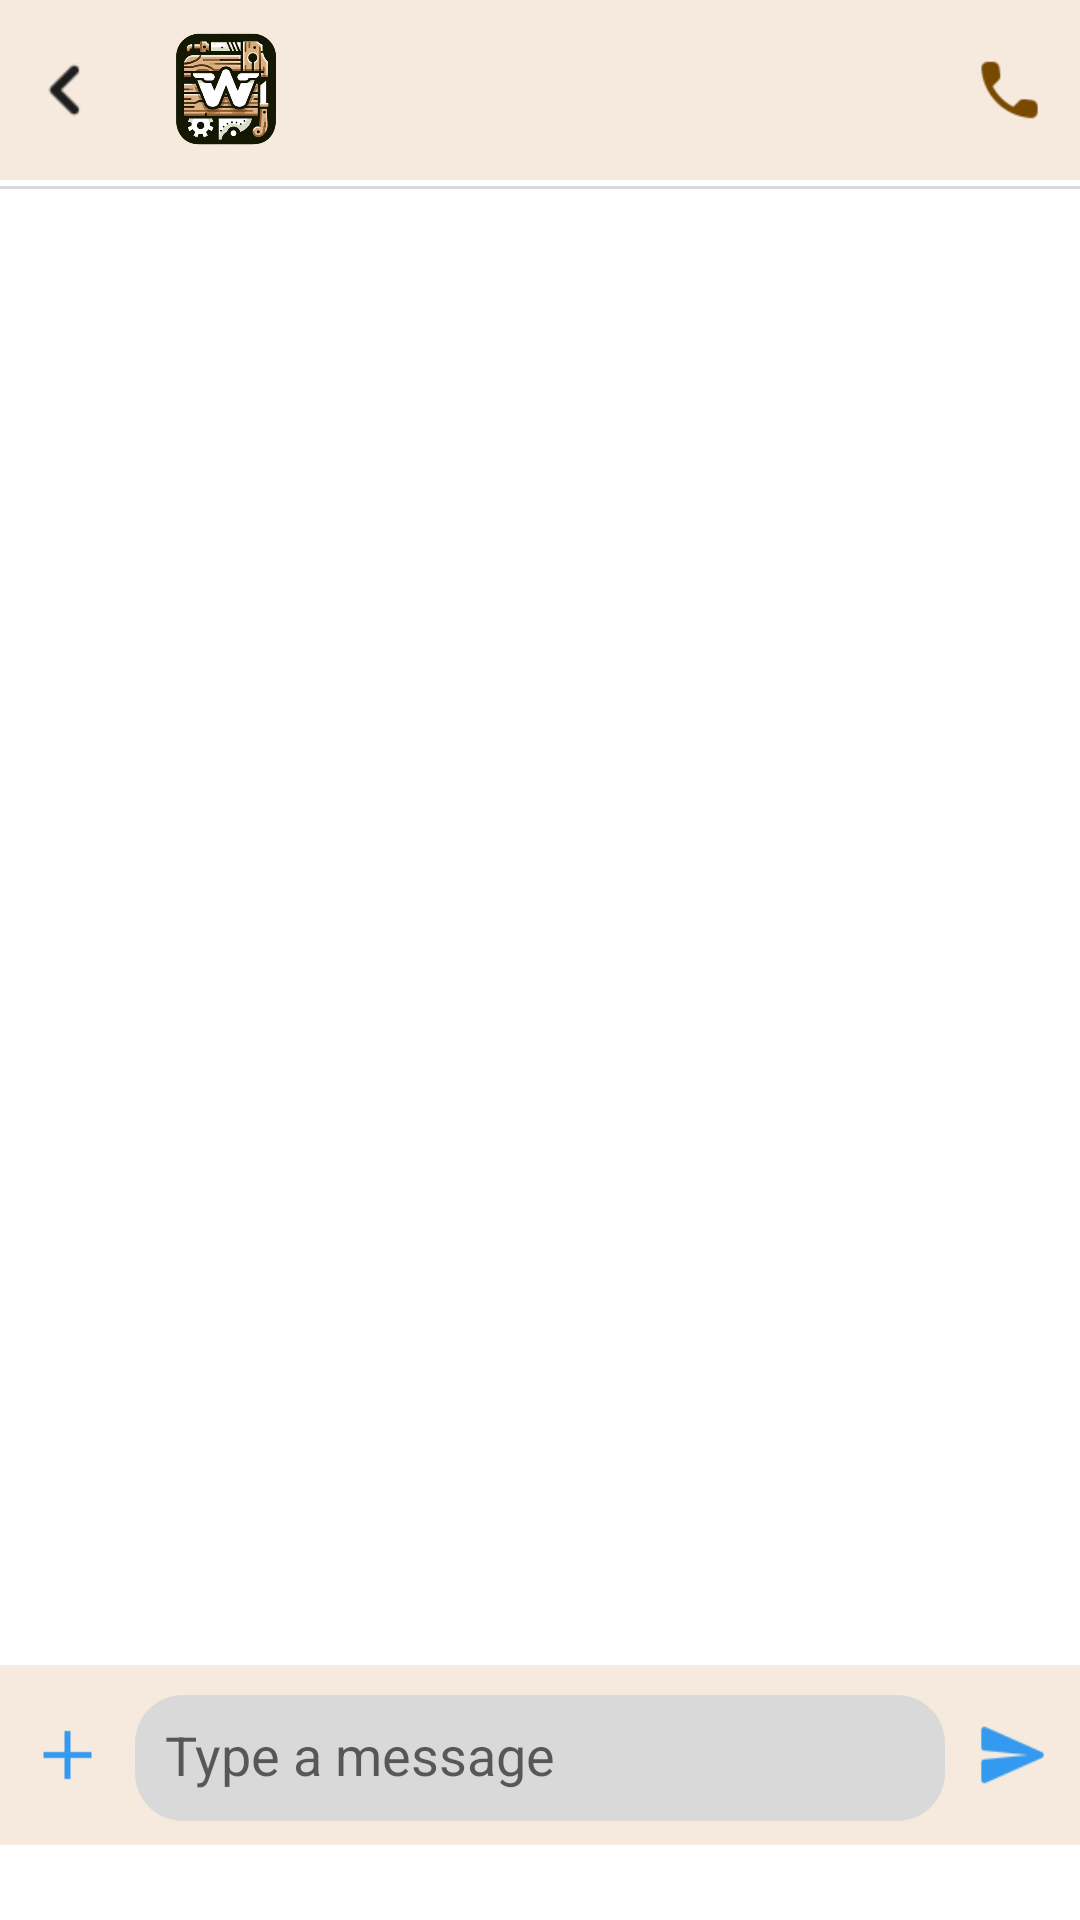

Icons on this 1080 x 1920 Android screen, each with its box as [x1, y1, x2, y2]:
Add image or doc: [43, 1730, 92, 1780]
blackleftarrow: [48, 64, 80, 115]
calliconblack: [981, 61, 1038, 119]
Send message: [981, 1726, 1044, 1784]
